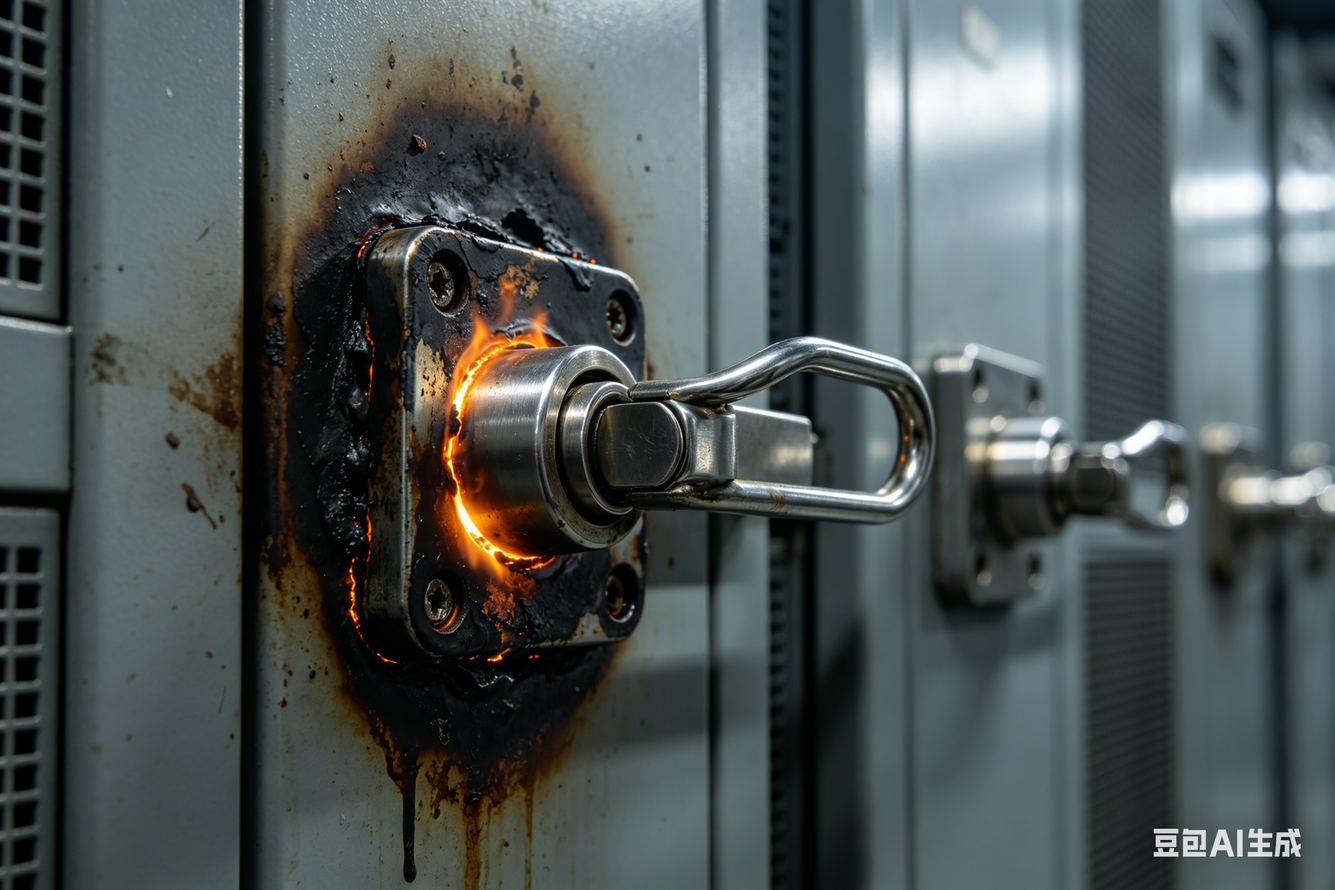BadLock: (347, 220, 662, 667)
